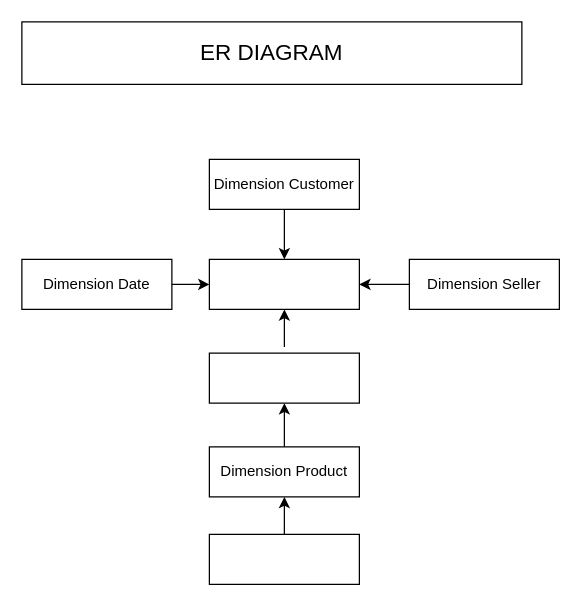
Image size: 581x606. Some labels were removed from this diagram. The shapes that lost their labels are listed below. From the top down, each one's centre as x and y in pixels, then its label:
(x=283, y=283): Fact Orders
(x=283, y=377): Fact Order Items
(x=283, y=558): Fact Payments
